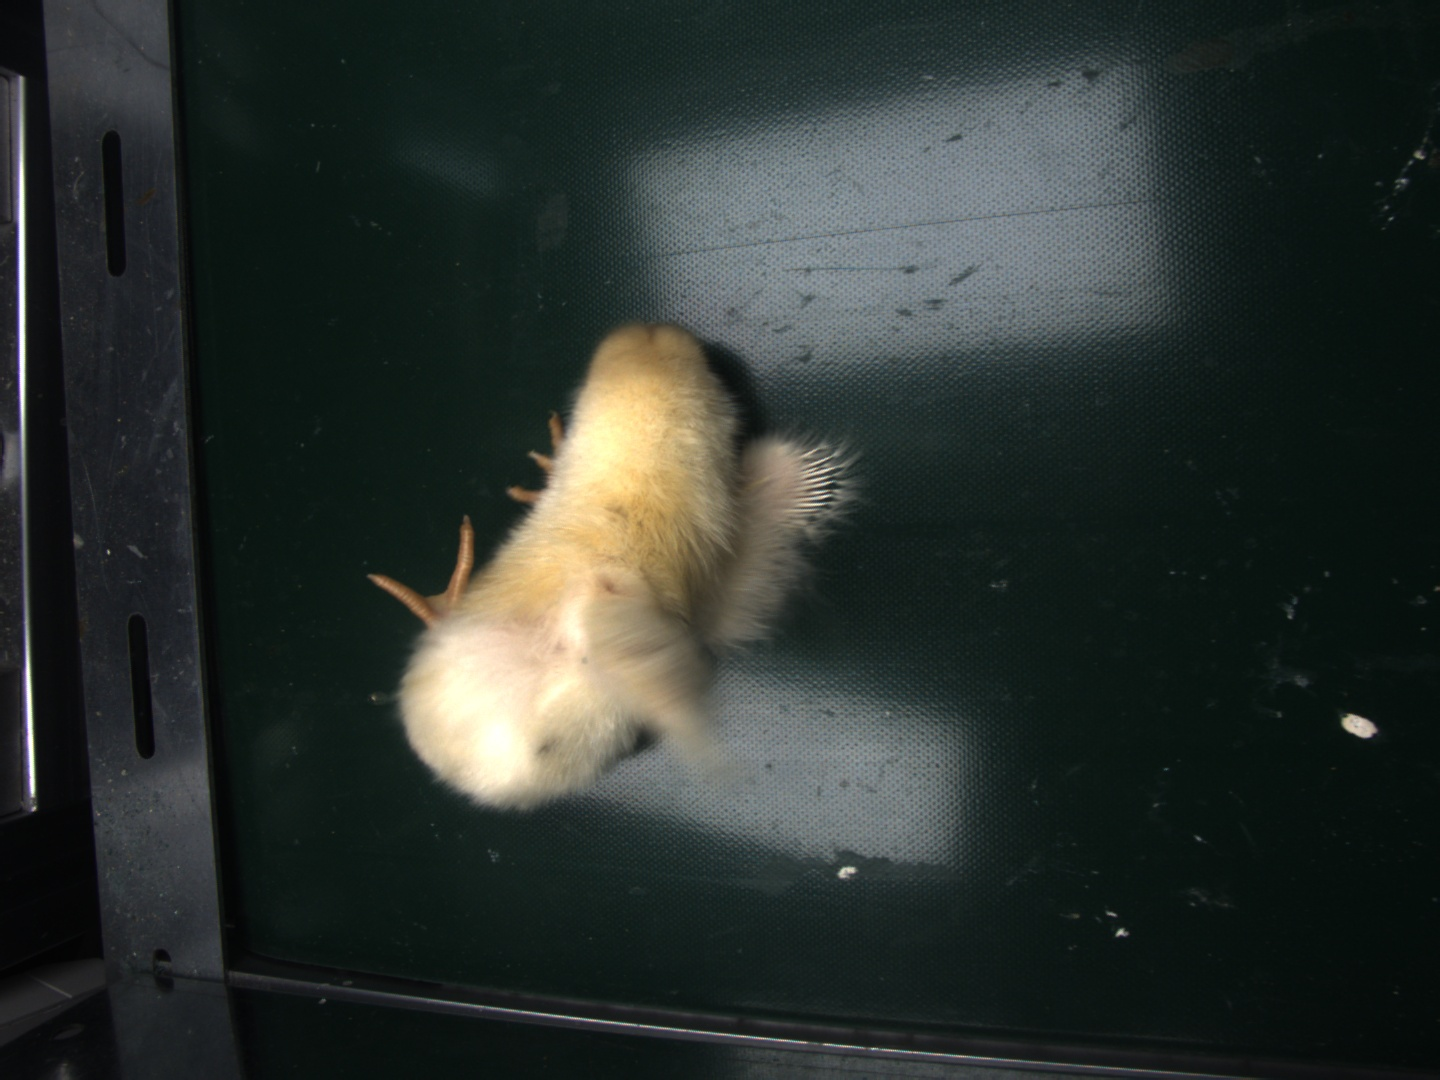male: (793, 442, 840, 520)
